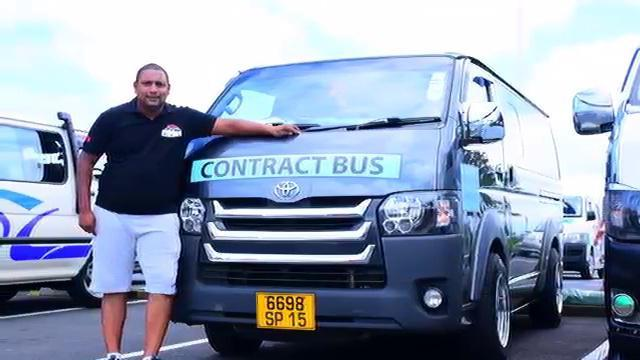van: (184, 52, 586, 343)
